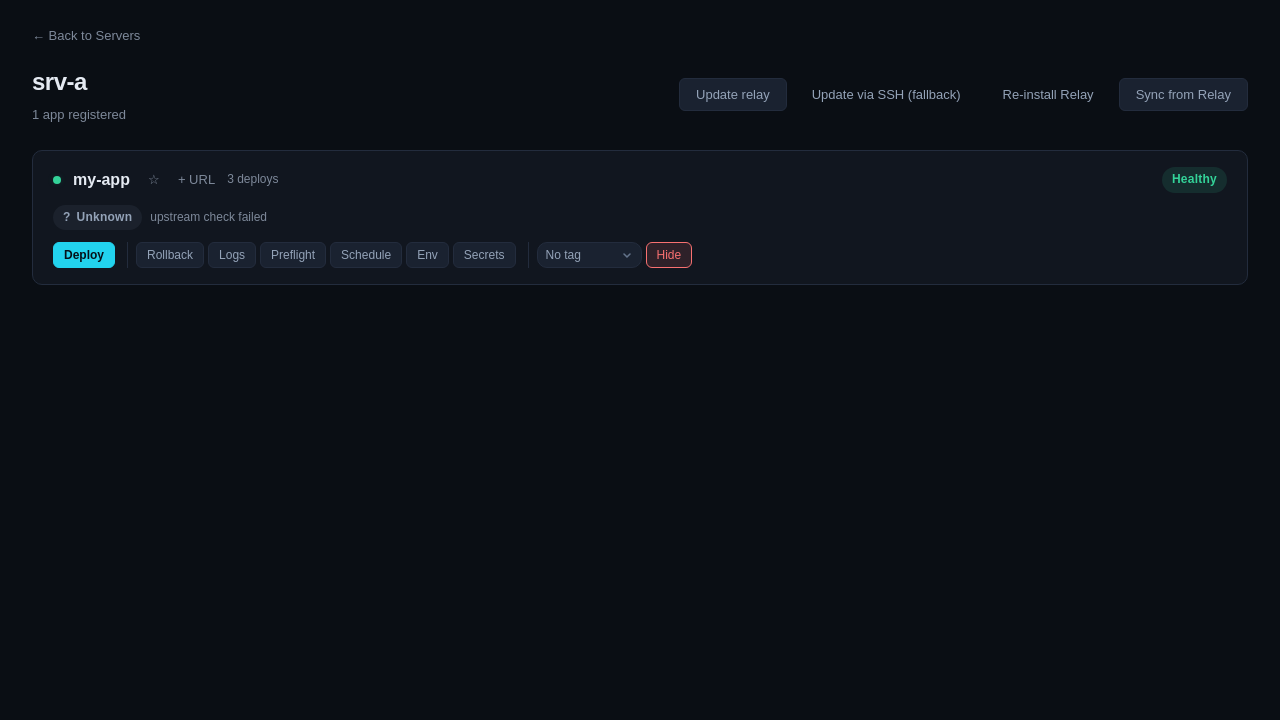
Test: ServerDetailPage — Rollback result surfacing › success:true still shows the existing success toast (positive case unchanged)
Expected: the text "my-app" is shown, [73, 167, 130, 193]
Click the button "Rollback". click: (170, 255)
box: [136, 242, 204, 268]
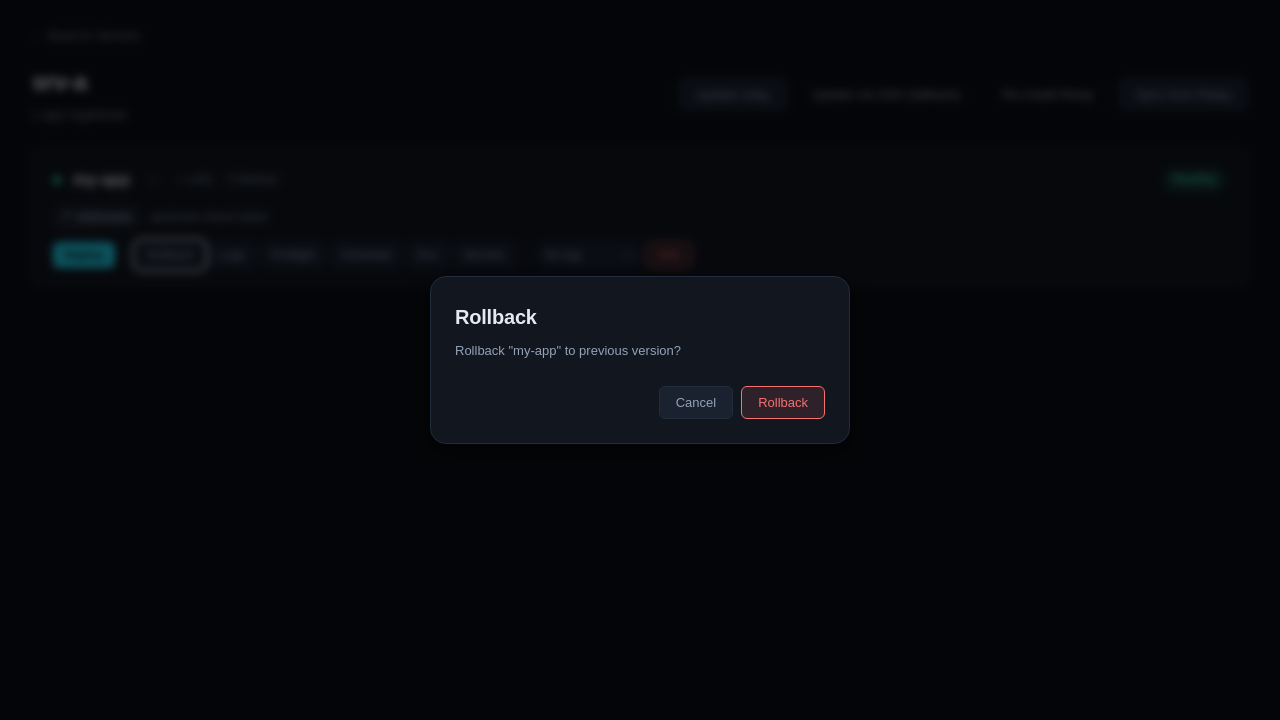
Click the button "Rollback". click: (783, 402)
box: [741, 386, 825, 419]
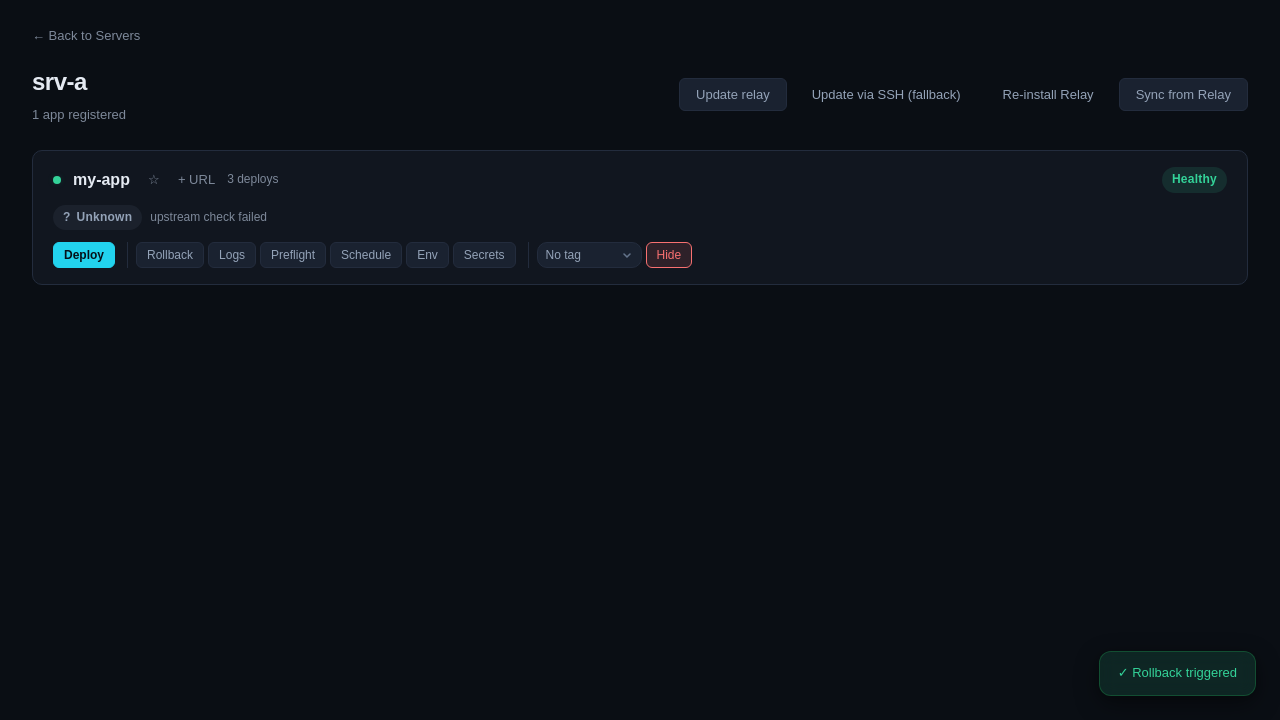
Now the message shows "Rollback triggered", box [1132, 665, 1237, 680]
